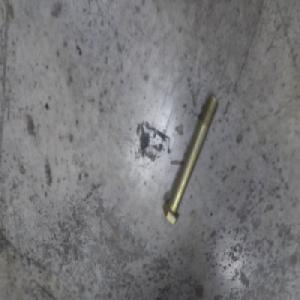Bolt: (161, 91, 216, 222)
